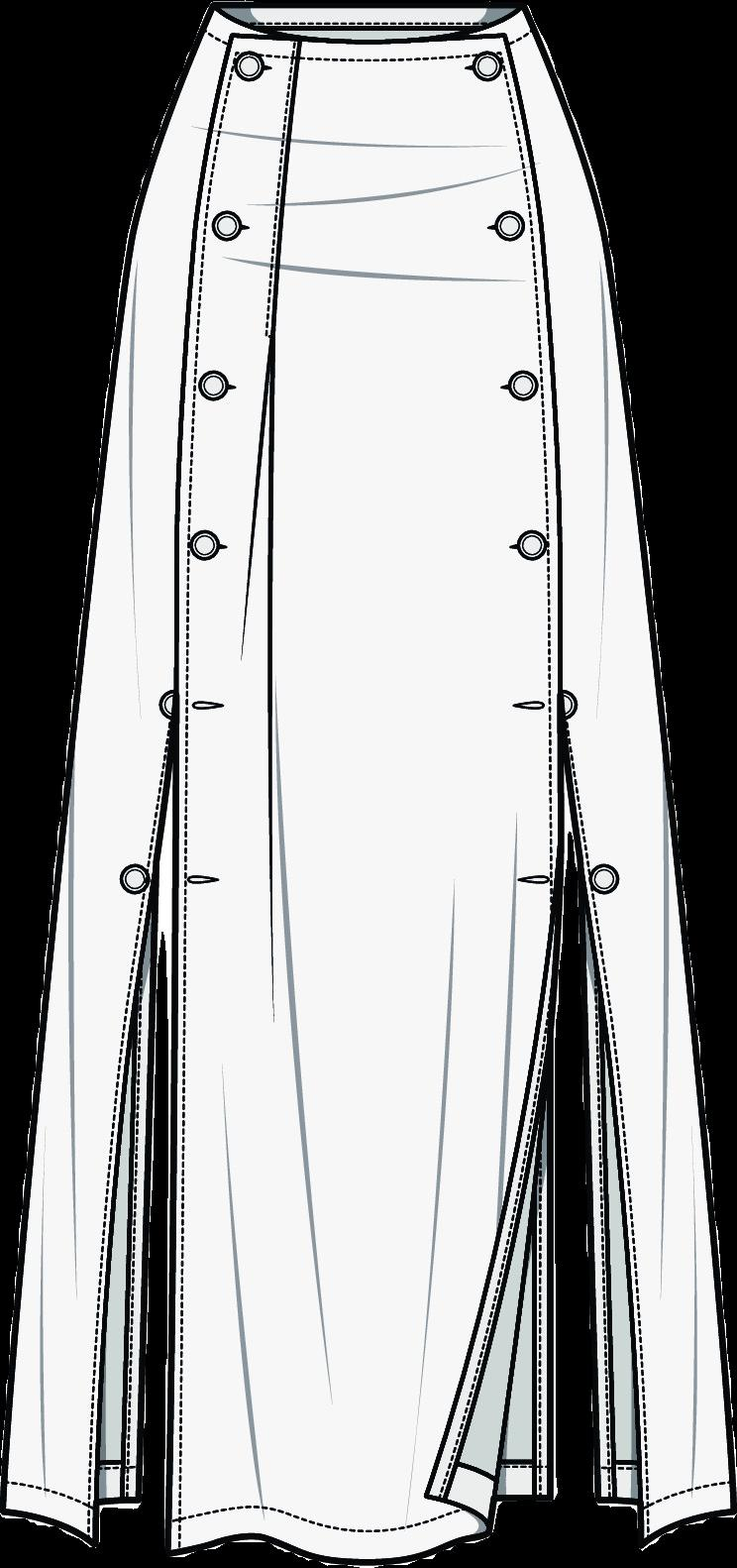Hemline: (0, 700, 736, 1566)
Waistline: (210, 0, 531, 55)
